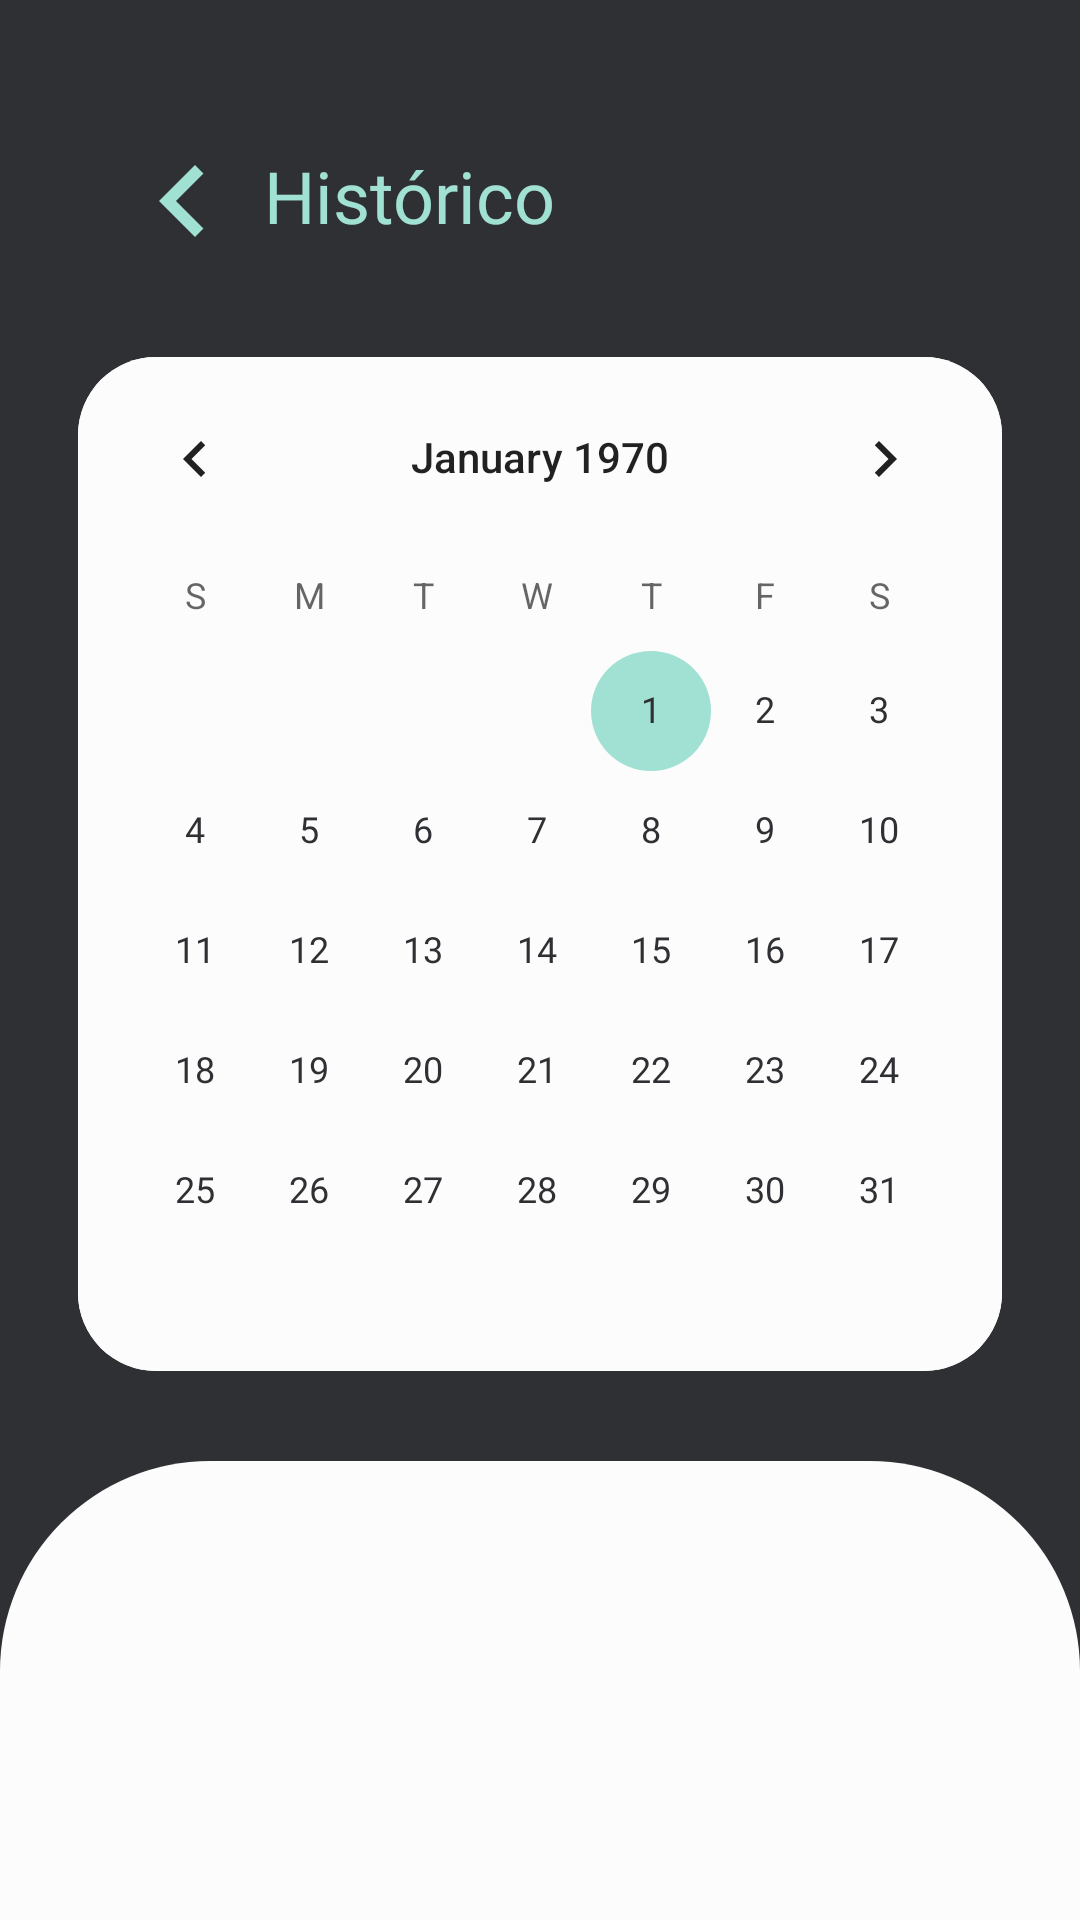

Where to tap for icons on this 1080*1920 app screen, as point (x, y):
seta verde claro: point (181, 201)
